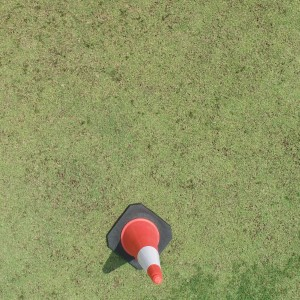traffic cone: (106, 203, 172, 283)
